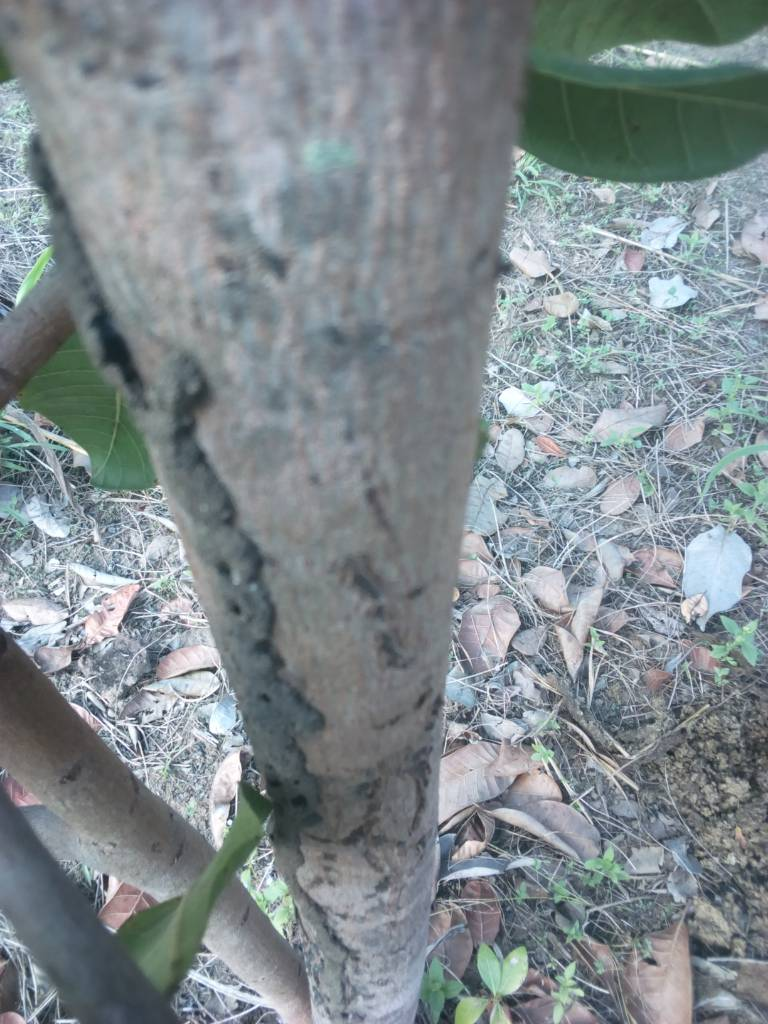Termites: (179, 364, 469, 883)
